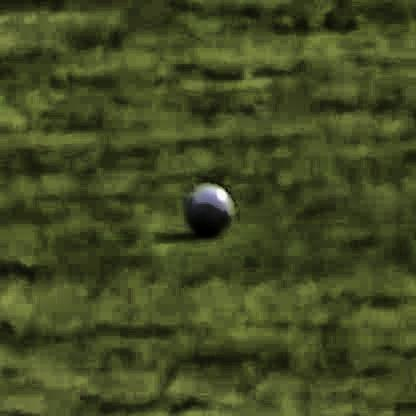golfball: (182, 179, 232, 230)
